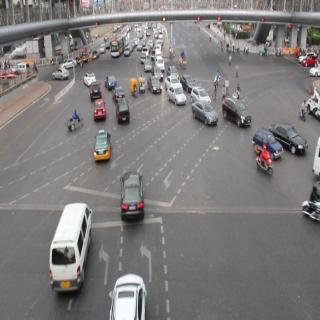BigCar: (107, 35, 129, 57)
Car: (48, 202, 92, 295), (108, 275, 147, 320), (118, 170, 146, 222), (278, 118, 308, 158), (221, 93, 250, 130), (254, 123, 279, 158), (191, 99, 218, 128), (94, 128, 114, 162), (166, 85, 186, 110), (115, 96, 131, 125), (192, 83, 211, 104), (147, 76, 163, 93), (93, 99, 107, 117), (52, 68, 68, 81), (301, 55, 317, 68), (110, 85, 125, 98), (82, 71, 97, 84), (89, 82, 102, 96), (104, 76, 118, 88), (124, 46, 132, 59), (144, 60, 151, 72)
